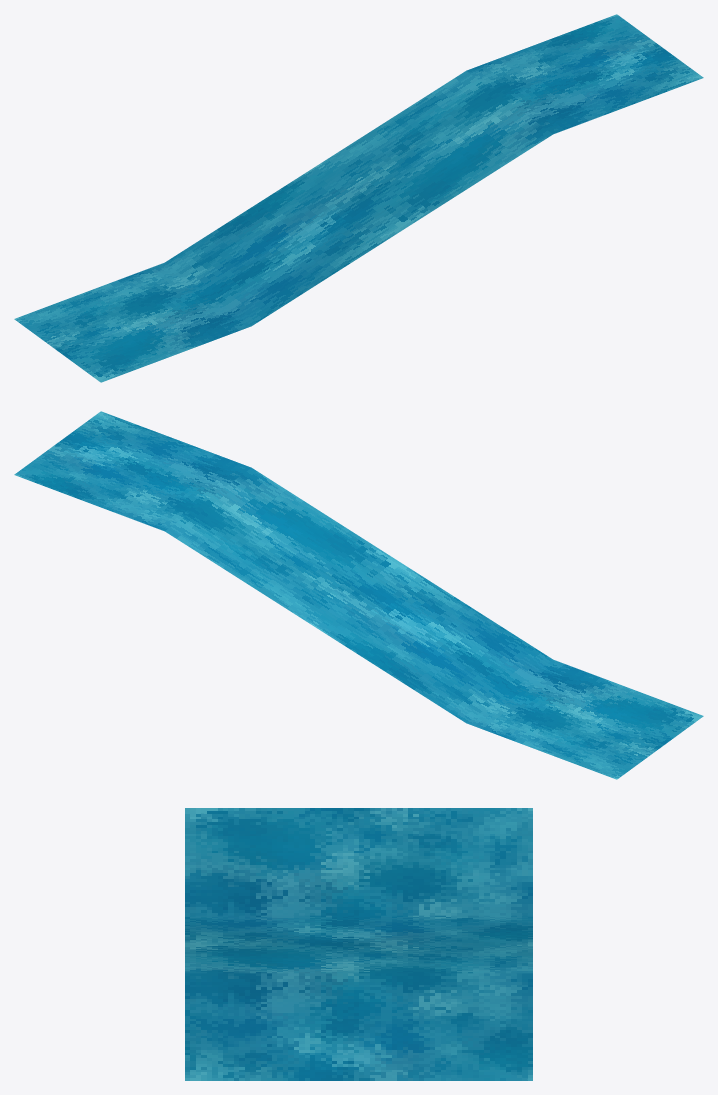
The model's file is Terrain_Water_River_Incline_Gentle_1x4.glb.
The picture shows the model from 3 angles, top to bottom: view 1: azimuth 30°, elevation 25°; view 2: azimuth 150°, elevation 25°; view 3: azimuth 270°, elevation 25°; orthographic projection. The views are drawn at different scales.
Visible parts, largest first — view 1: Terrain_Water_River_Incline_Gentle_1x4; view 2: Terrain_Water_River_Incline_Gentle_1x4; view 3: Terrain_Water_River_Incline_Gentle_1x4.
Part boxes in pixels (x1,y1,x2,y2): Terrain_Water_River_Incline_Gentle_1x4: (14, 14, 703, 382); Terrain_Water_River_Incline_Gentle_1x4: (14, 411, 703, 779); Terrain_Water_River_Incline_Gentle_1x4: (185, 808, 532, 1080).
Size of the model in its own units: 4 by 1 by 1.
1 material, 1 textured.
